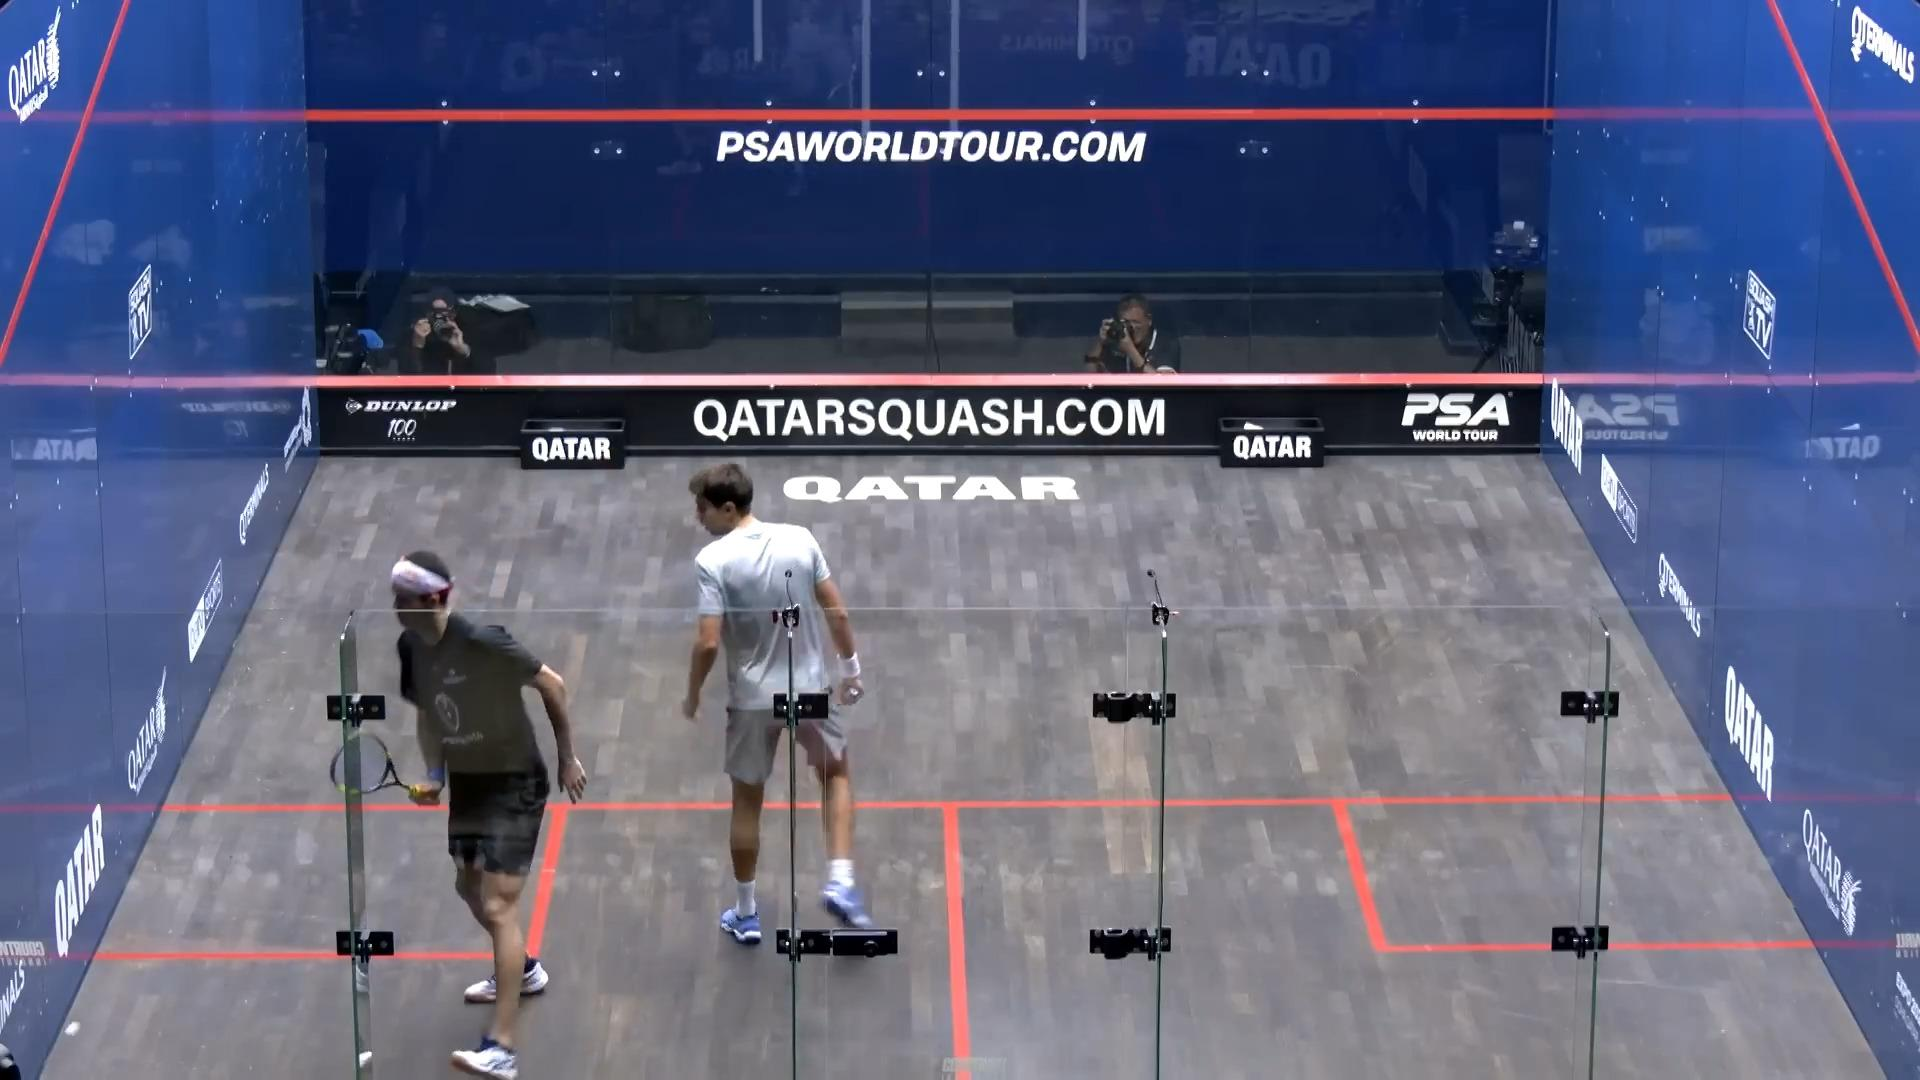Racket: (324, 721, 415, 815)
